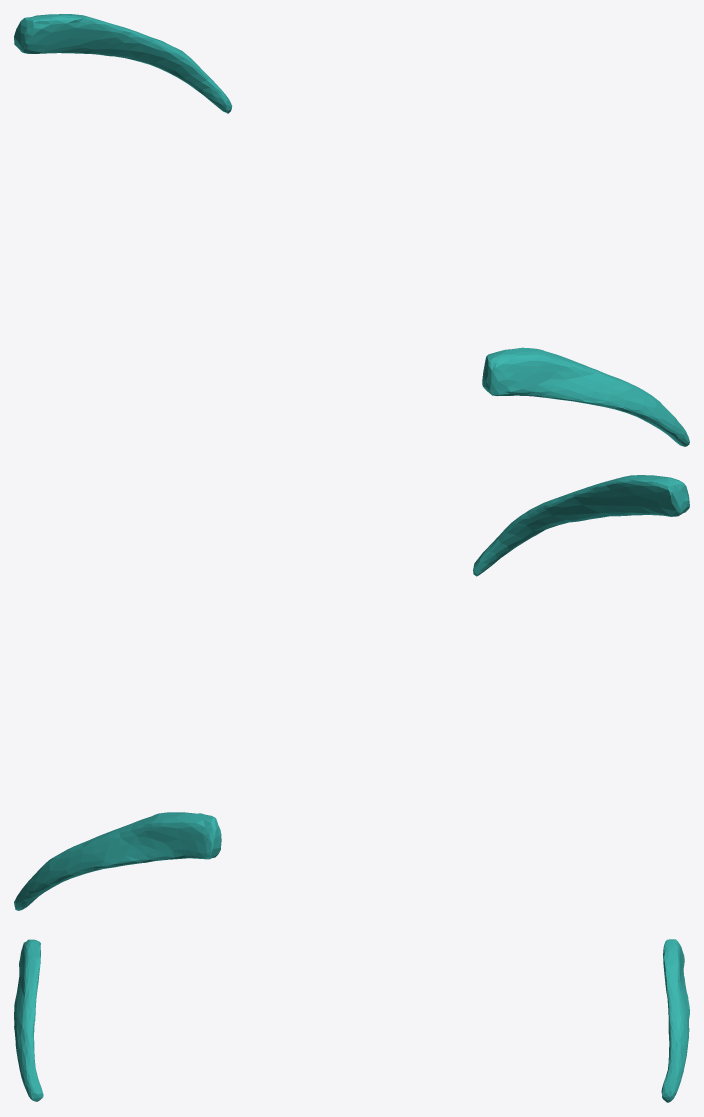
The picture shows the model from 3 angles, top to bottom: view 1: azimuth 30°, elevation 25°; view 2: azimuth 150°, elevation 25°; view 3: azimuth 270°, elevation 25°; orthographic projection. The views are drawn at different scales.
Parts seen in each view (by area): view 1: 427.obj; view 2: 427.obj; view 3: 427.obj.
Part boxes in pixels (bbox=[...]): 427.obj: bbox=[14, 14, 689, 446]; 427.obj: bbox=[14, 475, 689, 910]; 427.obj: bbox=[14, 939, 689, 1102].
Size of the model in its own units: 2443 by 1586 by 9959.
